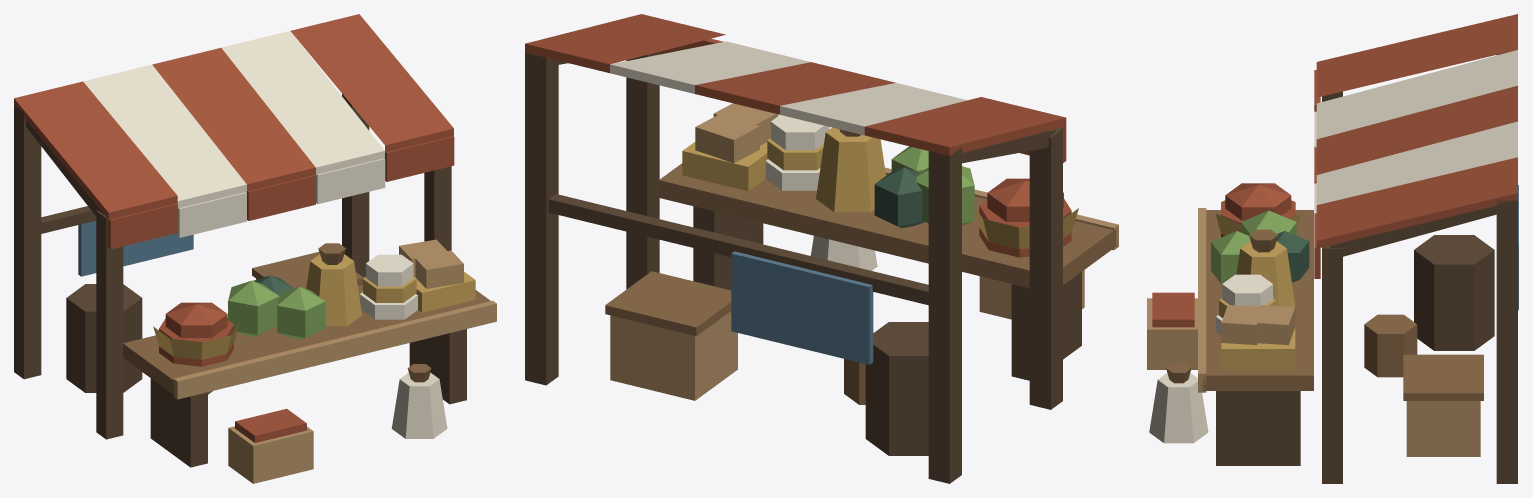
Rendered from market-stall.glb.
3 views of the same model, side by side, from view 1: azimuth 30°, elevation 25°; view 2: azimuth 150°, elevation 25°; view 3: azimuth 270°, elevation 25° (orthographic). The views are drawn at different scales.
Parts seen in each view (by area): view 1: market-stall; view 2: market-stall; view 3: market-stall.
Boxes of the visible parts, x1,y1,x2,y2 form: market-stall: (14, 14, 496, 483); market-stall: (525, 14, 1118, 483); market-stall: (1147, 14, 1518, 483).
Bounding box in the file's own units: 4 × 3.03 × 3.51.
Materials: 1 (1 with a texture image).
